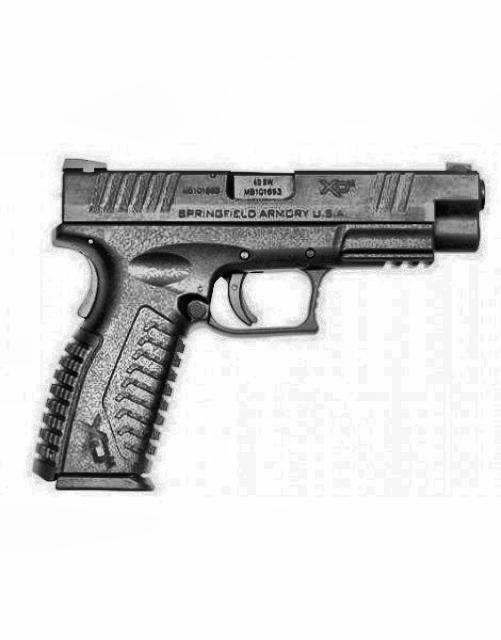pistol: (27, 155, 485, 497)
